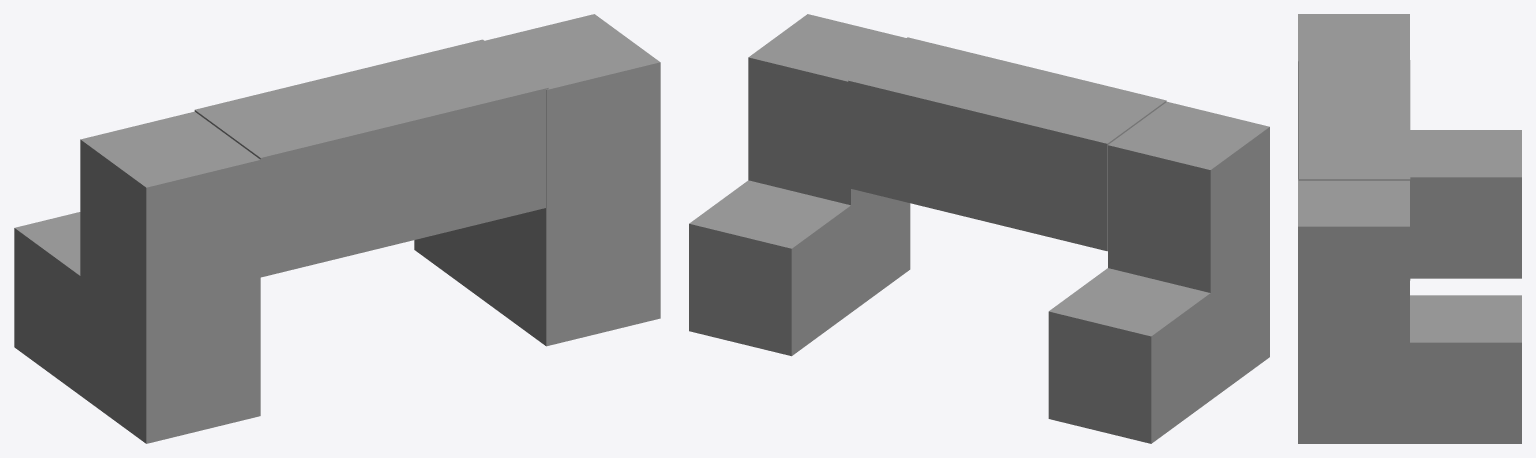
File: BothArm.obj
3 views of the same model, side by side, from view 1: azimuth 30°, elevation 25°; view 2: azimuth 150°, elevation 25°; view 3: azimuth 270°, elevation 25° (orthographic). The views are drawn at different scales.
Parts seen in each view (by area): view 1: 立方体; view 2: 立方体; view 3: 立方体.
Part boxes in pixels (bbox=[...]): 立方体: bbox=[14, 14, 660, 443]; 立方体: bbox=[689, 14, 1269, 443]; 立方体: bbox=[1298, 14, 1521, 443].
Bounding box in the file's own units: 9 × 4.31 × 4.
1 material, 1 textured.
